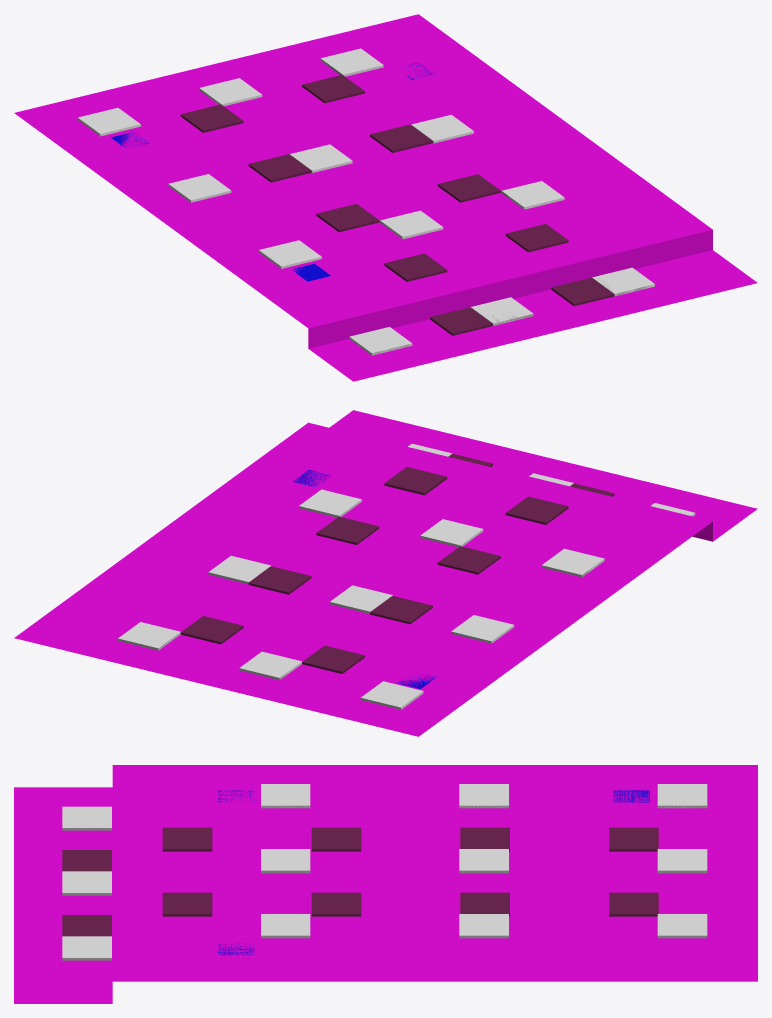
Rendered from Techo.fbx.
3 views of the same model, one above another, from view 1: azimuth 30°, elevation 25°; view 2: azimuth 150°, elevation 25°; view 3: azimuth 270°, elevation 25° (orthographic). The views are drawn at different scales.
Visible parts, largest first — view 1: Sala.002, Cube, Ventilación, Aire; view 2: Sala.002, Cube, Ventilación, Luces, Aire; view 3: Sala.002, Cube, Ventilación, Luces, Aire.
Part boxes in pixels (x1,y1,x2,y2): Sala.002: (14,14,757,381); Cube: (77,48,654,355); Ventilación: (180,75,614,335); Aire: (111,63,434,281); Sala.002: (14,410,757,736); Cube: (123,443,694,709); Ventilación: (180,454,614,673); Luces: (118,447,589,709); Aire: (293,470,436,688); Sala.002: (14,765,757,1003); Cube: (62,784,707,957); Ventilación: (62,827,658,936); Luces: (62,805,707,960); Aire: (218,790,649,955).
Size of the model in its own units: 6.23 by 0.3435 by 9.05.
